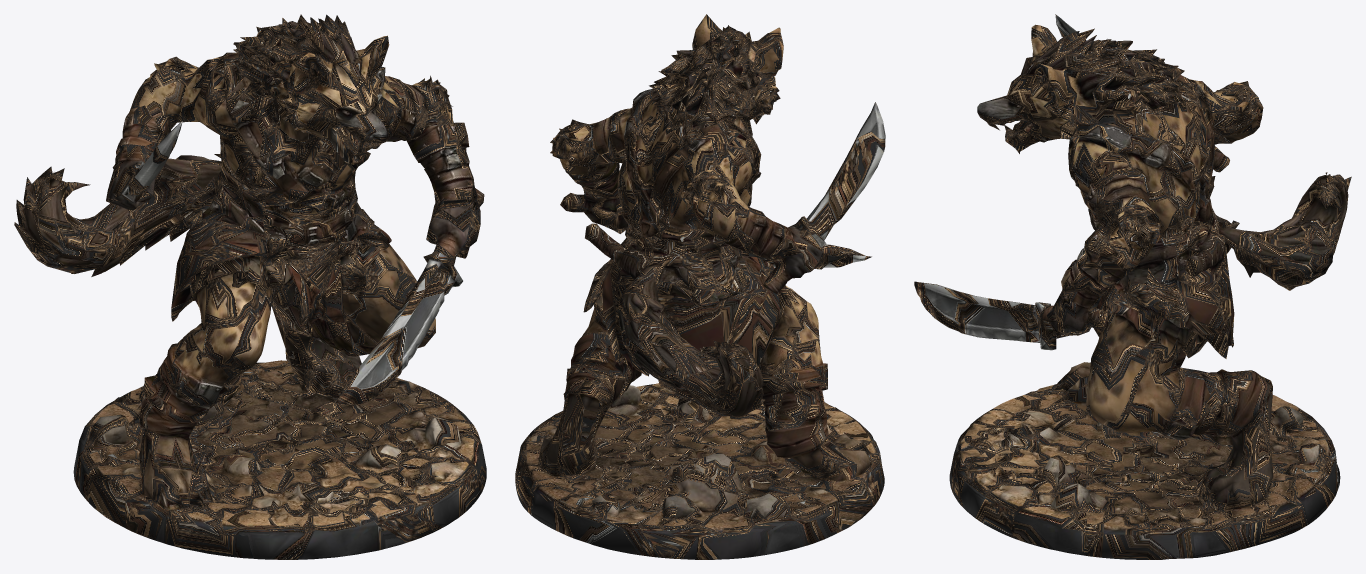
The model's file is gnoll.glb.
3 renders of one model, left to right at view 1: azimuth 30°, elevation 25°; view 2: azimuth 150°, elevation 25°; view 3: azimuth 270°, elevation 25°, orthographic. The views are drawn at different scales.
Bounding box in the file's own units: 1.48 × 1.9 × 1.68.
1 material, 1 textured.
